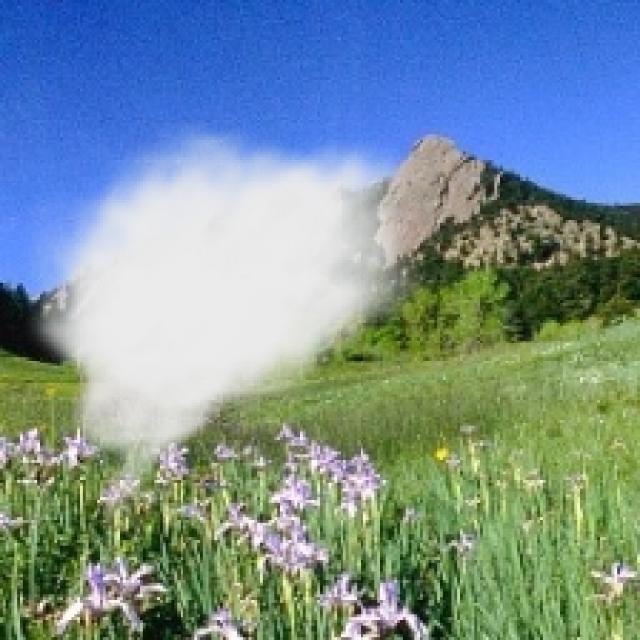Smoke: (20, 120, 437, 534)
